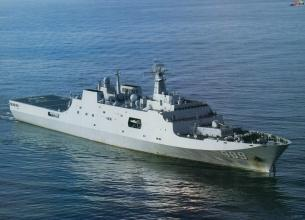warship: (8, 55, 289, 174)
